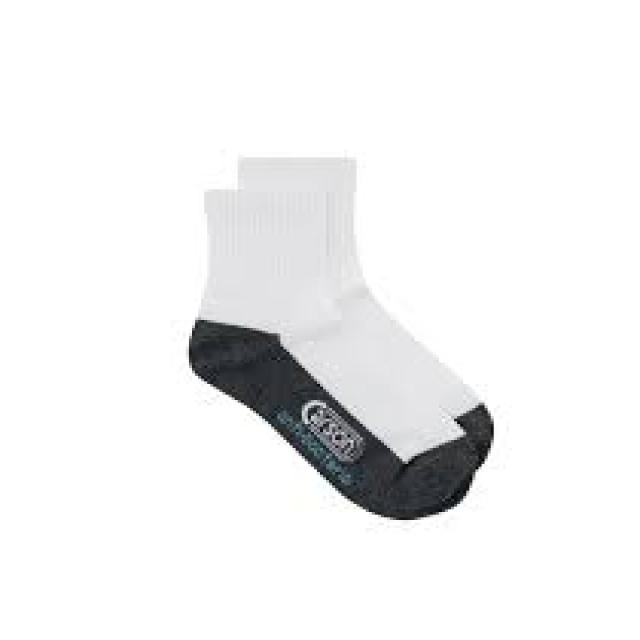sock: (186, 152, 494, 520)
